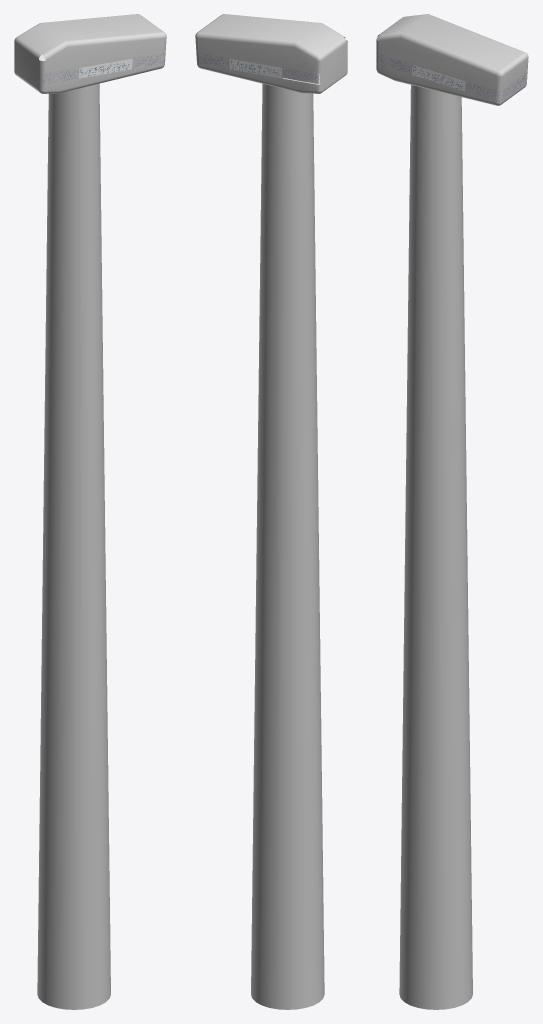
Rendered from vestas_v52_tower.dae.
The picture shows the model from 3 angles, left to right: view 1: azimuth 30°, elevation 25°; view 2: azimuth 150°, elevation 25°; view 3: azimuth 330°, elevation 25°; orthographic projection.
Parts seen in each view (by area): view 1: SketchUp_001, SketchUp_003, logp_2, SketchUp_008, SketchUp_009; view 2: SketchUp_001, SketchUp_003, logo_1, SketchUp_013, SketchUp_009; view 3: SketchUp_001, SketchUp_003, SketchUp_009, logp_2, SketchUp_008.
Boxes of the visible parts, bbox=[...] form: SketchUp_001: bbox=[37, 83, 110, 1009]; SketchUp_003: bbox=[14, 14, 166, 93]; logp_2: bbox=[79, 58, 132, 78]; SketchUp_008: bbox=[41, 68, 79, 84]; SketchUp_009: bbox=[132, 52, 165, 69]; SketchUp_001: bbox=[251, 83, 324, 1009]; SketchUp_003: bbox=[195, 14, 347, 93]; logo_1: bbox=[229, 58, 282, 78]; SketchUp_013: bbox=[282, 67, 319, 83]; SketchUp_009: bbox=[196, 52, 229, 69]; SketchUp_001: bbox=[399, 85, 472, 1009]; SketchUp_003: bbox=[376, 14, 528, 105]; SketchUp_009: bbox=[465, 72, 527, 101]; logp_2: bbox=[412, 65, 465, 91]; SketchUp_008: bbox=[376, 53, 412, 74].
Bounding box in the file's own units: 10.15 × 5.1 × 73.86.
Materials: 5 (1 with a texture image).
